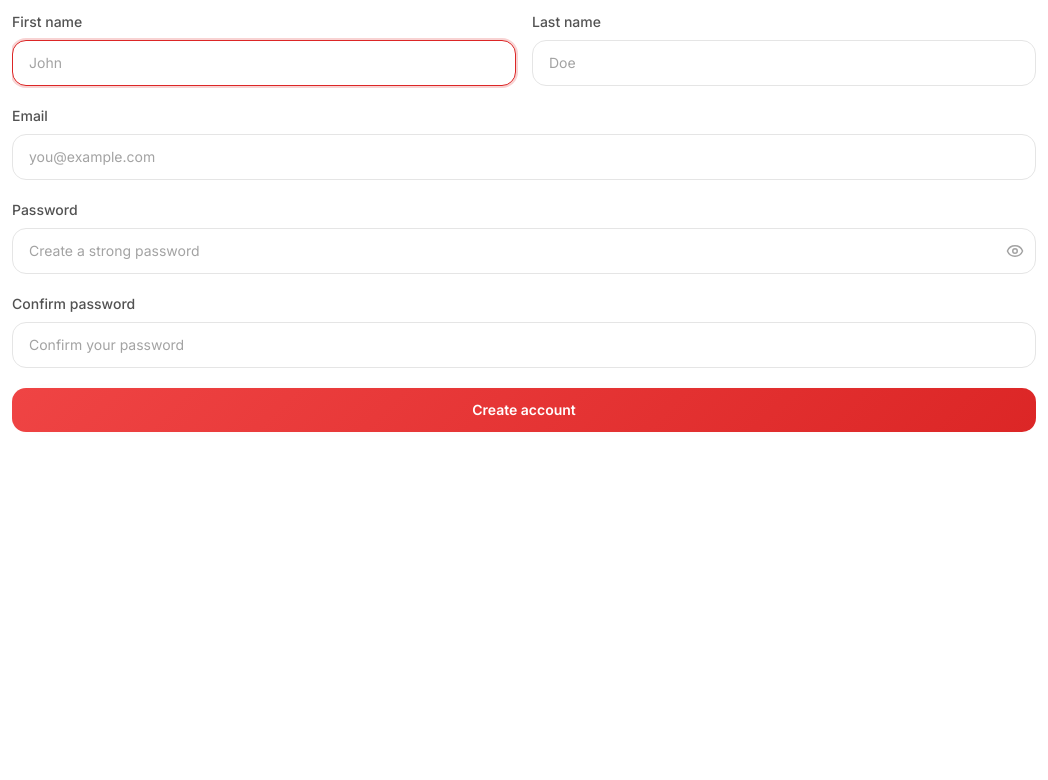
Test: RegisterForm › rates password strength
In the password field with placeholder "Create a strong password": (524, 251) [12, 228, 1036, 274], type "abc"
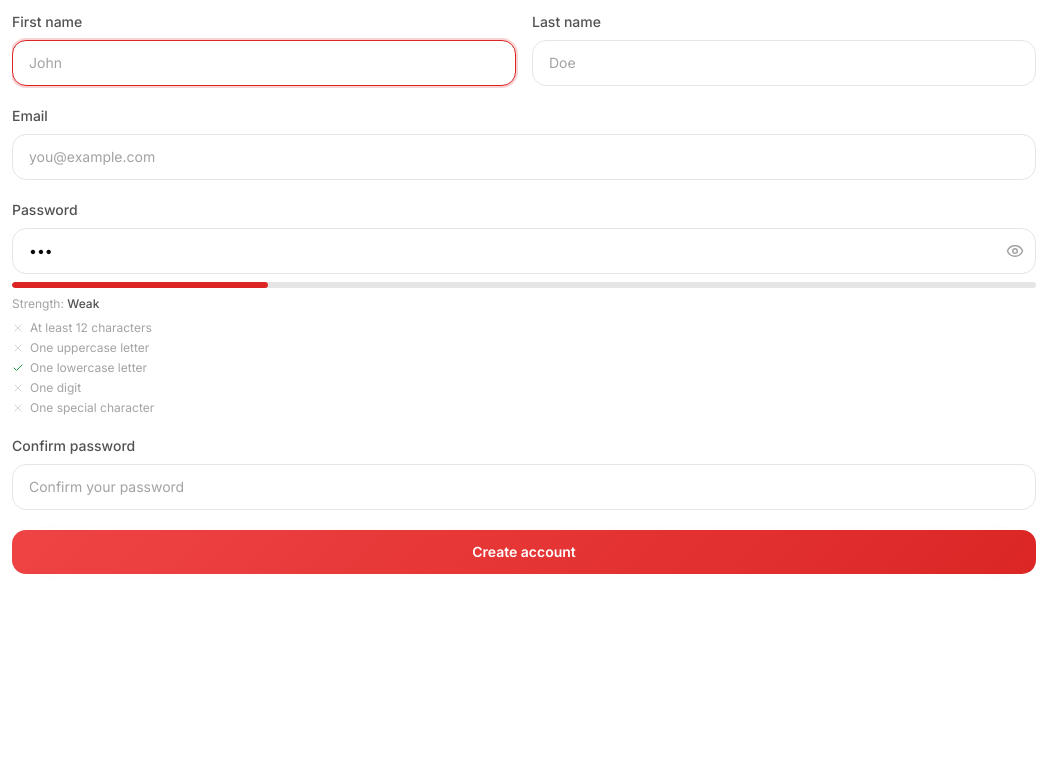
Expected: the text "Weak" is shown, [67, 296, 99, 311]
In the password field with placeholder "Create a strong password": (524, 251) [12, 228, 1036, 274], type "Abcdefgh123!"
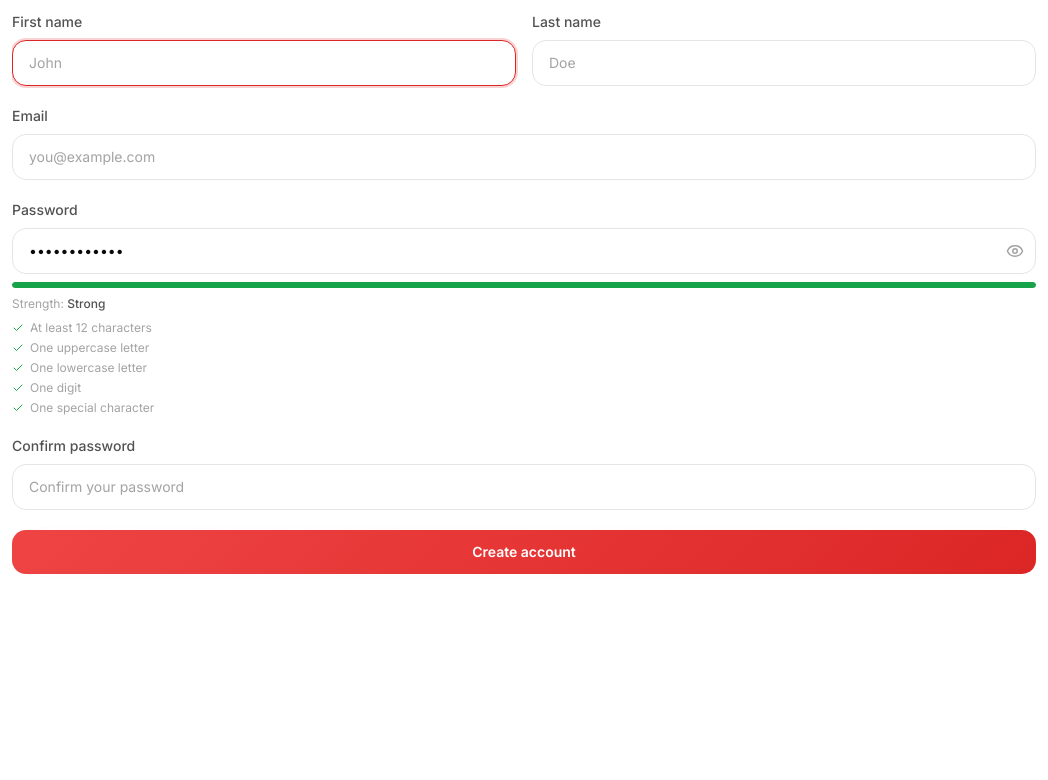
Expected: the list item "At least 12 characters" is shown, [12, 320, 152, 335]
Expected: the text "Strong" is shown, [67, 296, 106, 311]
